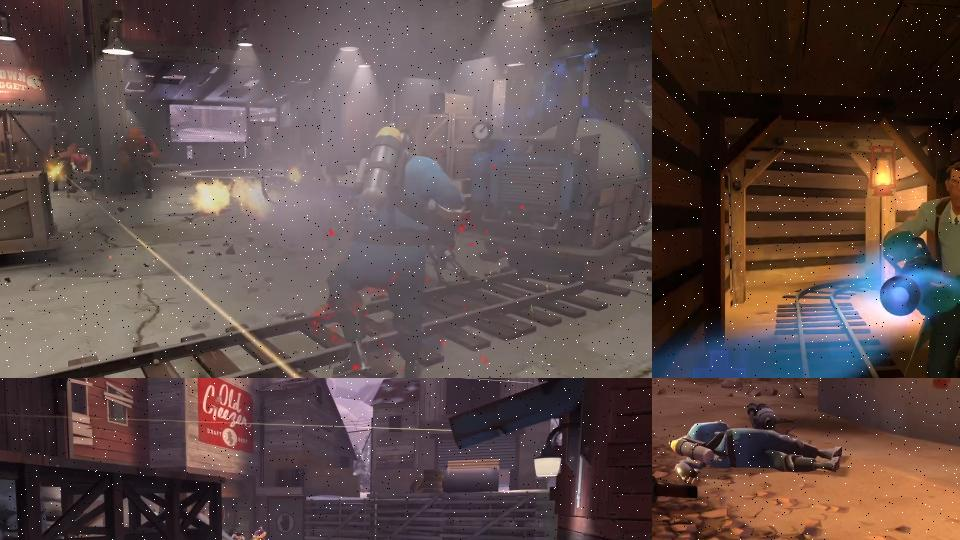Enemy: (321, 109, 468, 378), (873, 158, 960, 378), (668, 420, 846, 485), (116, 127, 160, 200), (49, 131, 78, 192), (66, 148, 98, 201), (247, 526, 266, 540), (228, 529, 245, 540)
